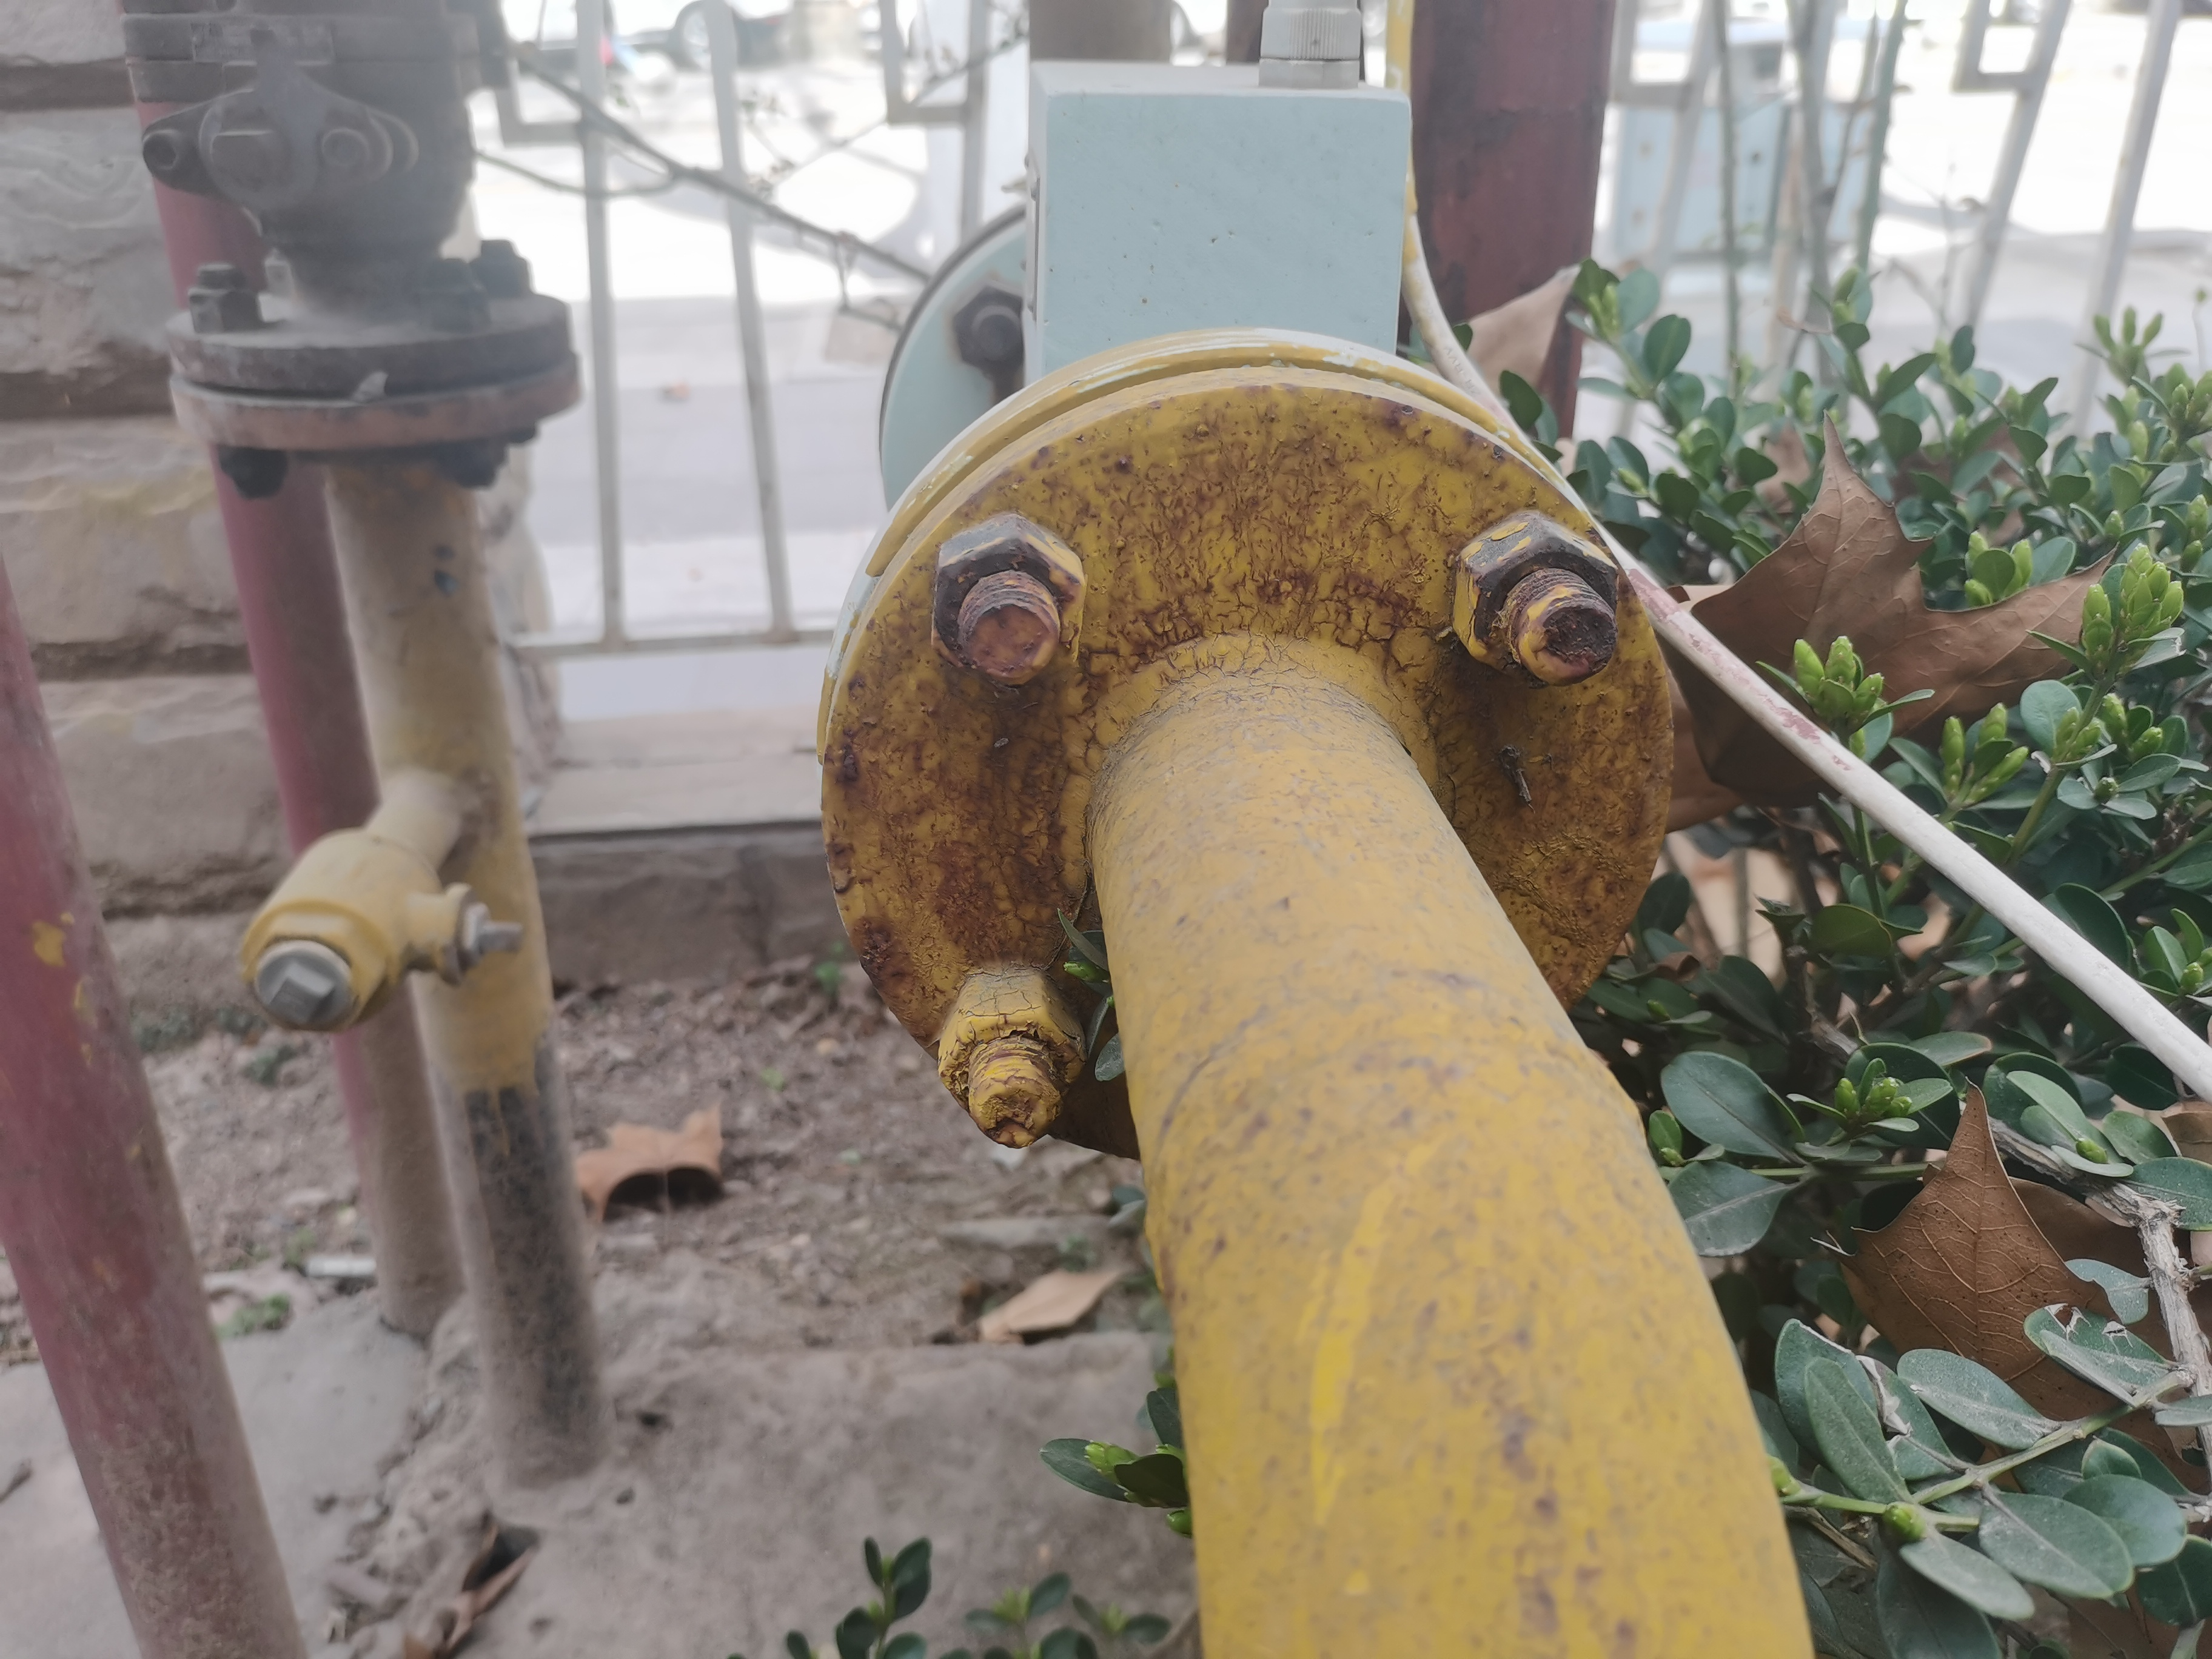bolt_b: (1451, 507, 1622, 694), (928, 511, 1090, 701), (935, 965, 1090, 1150)
bolt_c: (183, 270, 268, 336)
vague: (948, 277, 1038, 380)
